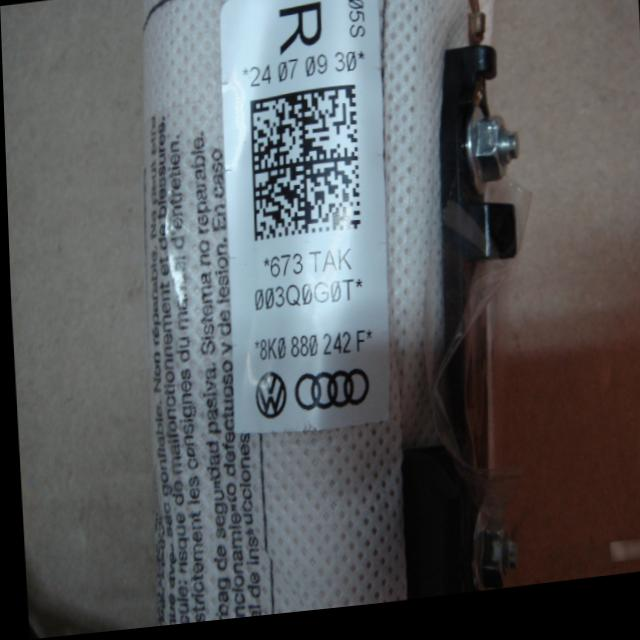datamatrix: (247, 92, 361, 247)
